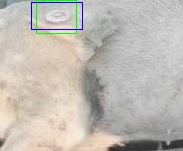text: (36, 0, 76, 33)
